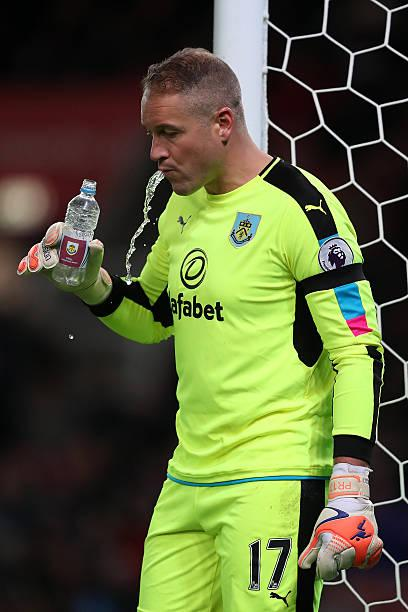Spitting: (90, 27, 279, 311)
